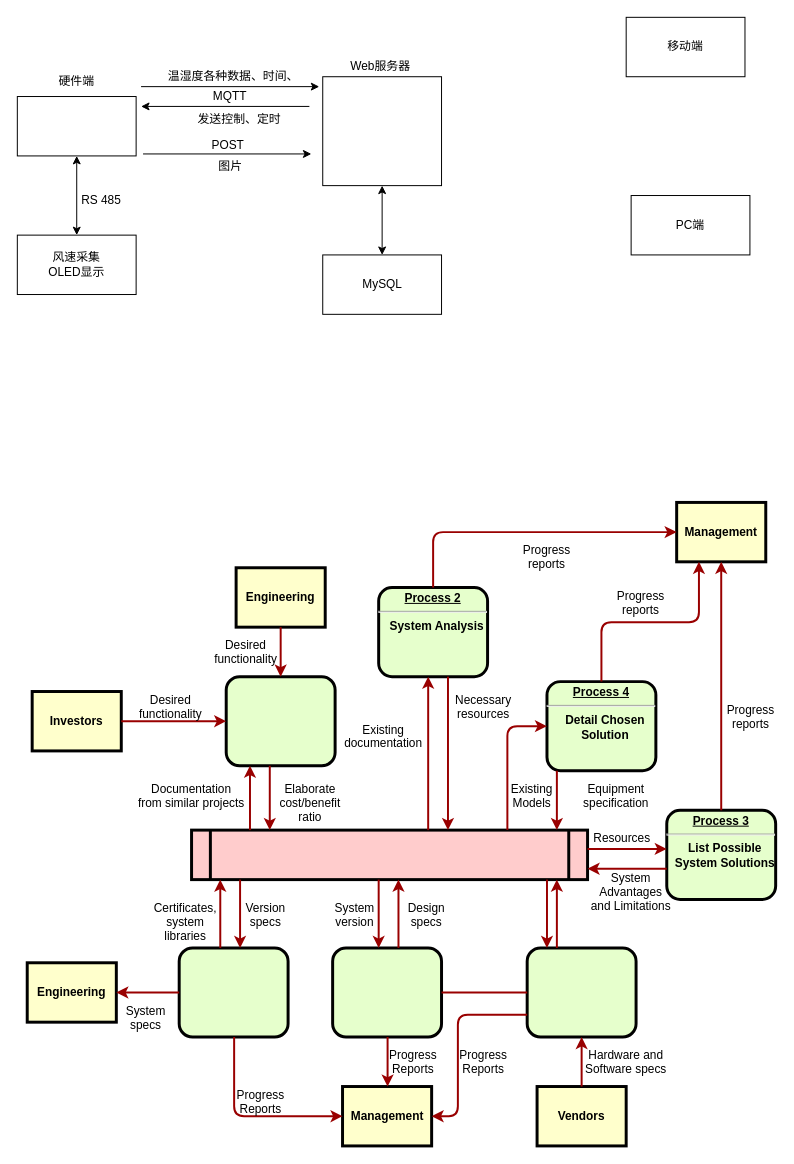
The diagram is 794 pixels wide and 1164 high, and some of its shapes have lost their labels. The box of each missing label's shape, as (x1, y1, x2, y2) in pixels:
ON-DEMAND SYSTEM DEVELOPMENT: (190, 828, 589, 881)
Process 1 System Study Preparation: (224, 675, 336, 767)
Process 5 New System Design: (525, 946, 637, 1038)
Process 6 New System Construction: (177, 946, 289, 1038)
Process 7 New System Startup and Testing: (331, 946, 443, 1038)
STM32、4G模块 各种传感器。 时间本地设置、 定时校正: (16, 96, 136, 156)
